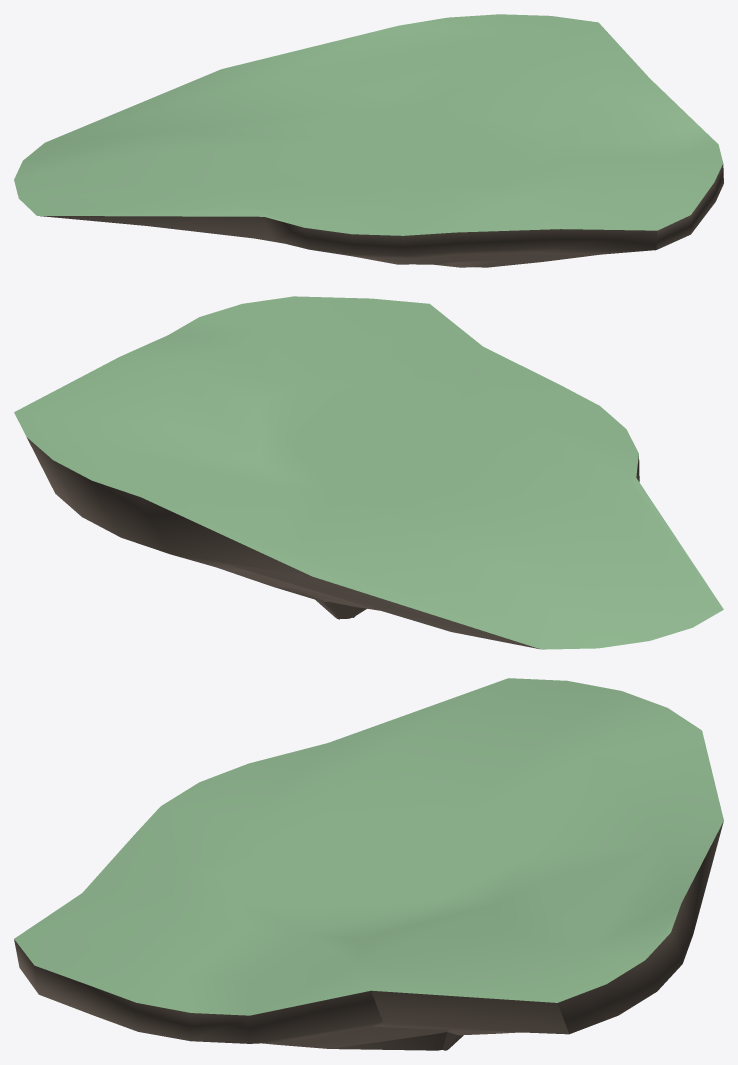
Rendered from bigisland.fbx.
3 views of the same model, one above another, from view 1: azimuth 30°, elevation 25°; view 2: azimuth 150°, elevation 25°; view 3: azimuth 270°, elevation 25° (orthographic). The views are drawn at different scales.
Visible parts, largest first — view 1: pDisc1; view 2: pDisc1; view 3: pDisc1.
Boxes of the visible parts, bbox=[...] form: pDisc1: bbox=[14, 14, 723, 267]; pDisc1: bbox=[14, 296, 723, 649]; pDisc1: bbox=[14, 678, 723, 1050].
Size of the model in its own units: 6.41 by 1.56 by 5.12.
